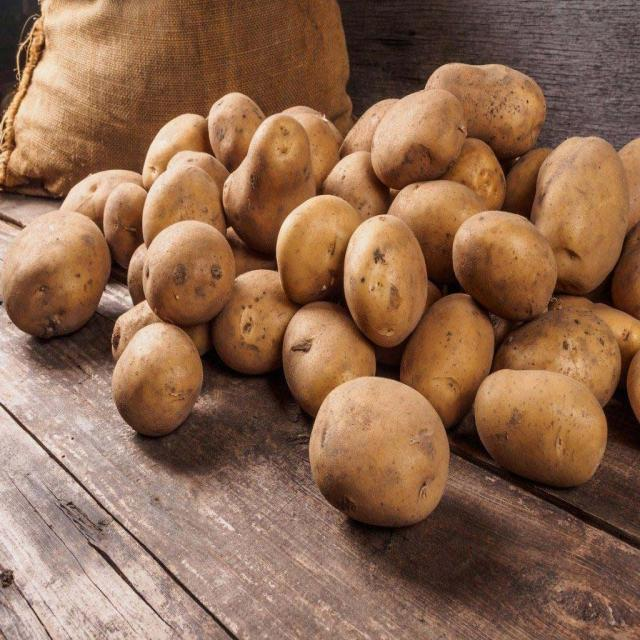potato: (310, 368, 450, 531), (470, 351, 618, 497), (11, 201, 116, 349), (418, 47, 552, 160), (104, 317, 214, 443), (274, 174, 370, 317), (369, 79, 481, 200), (452, 205, 563, 309), (341, 211, 427, 339), (137, 215, 240, 321)
